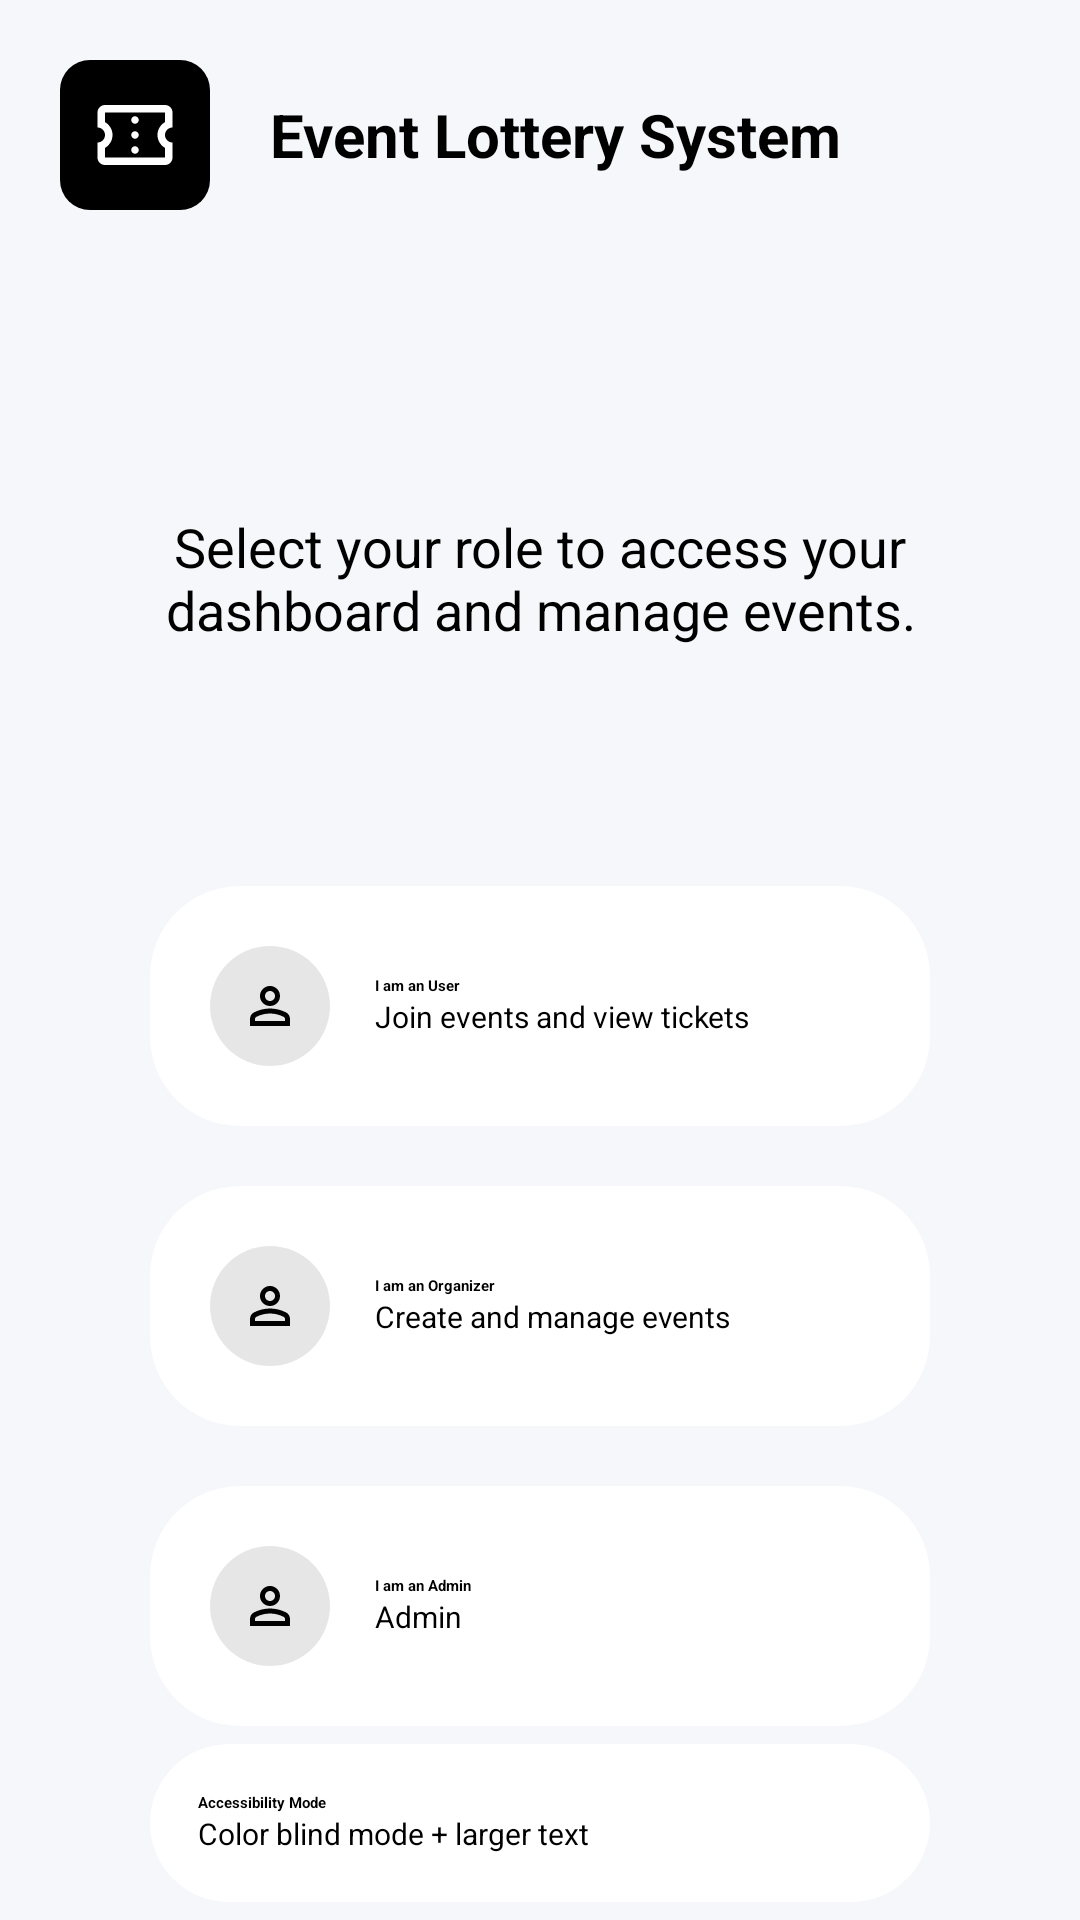

Point at icon controls on the screen. Image size 1080px×1920px, points as [x,y].
Entrant sign in: [270,1006]
Organizer sign in: [270,1306]
